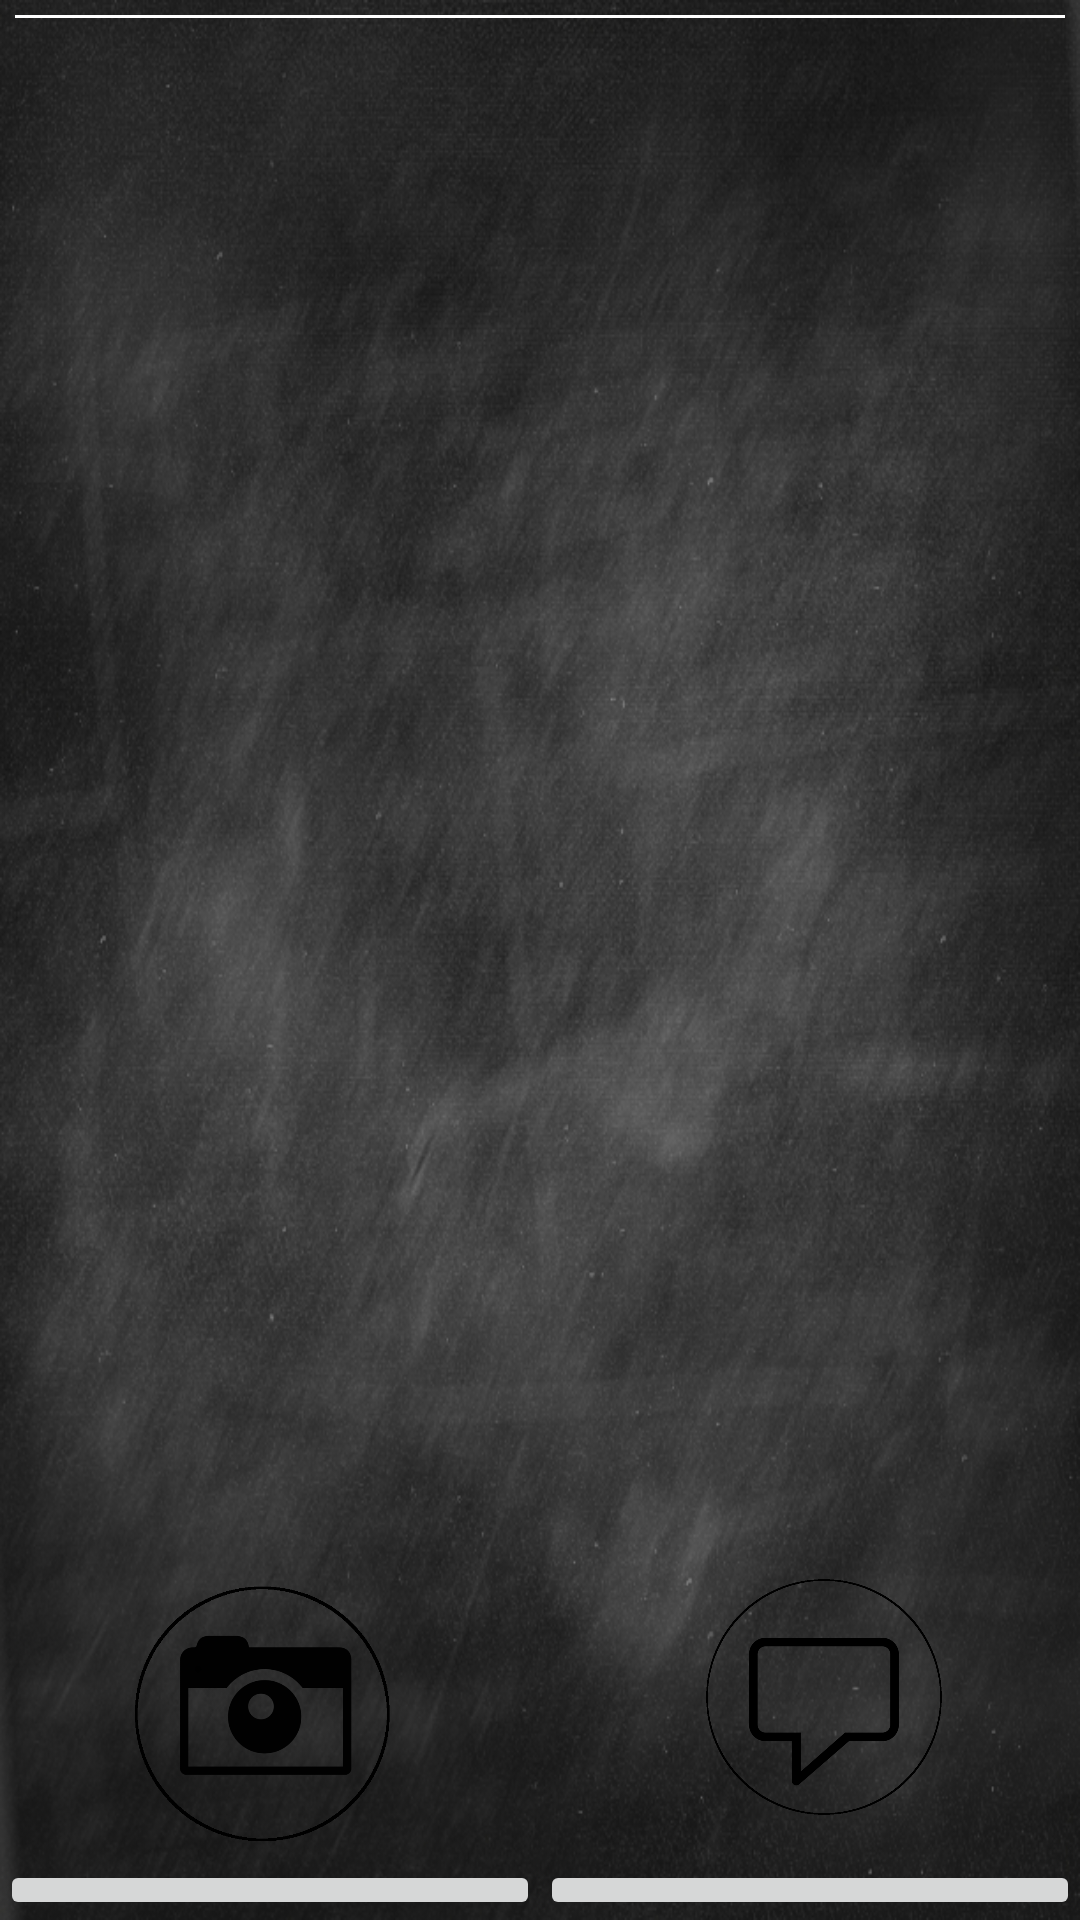

Icons on this 1080w x 1920h Android screen, each with the point to tap as [x,y]:
camera: [261,1700]
comment speech bubble: [804,1687]
